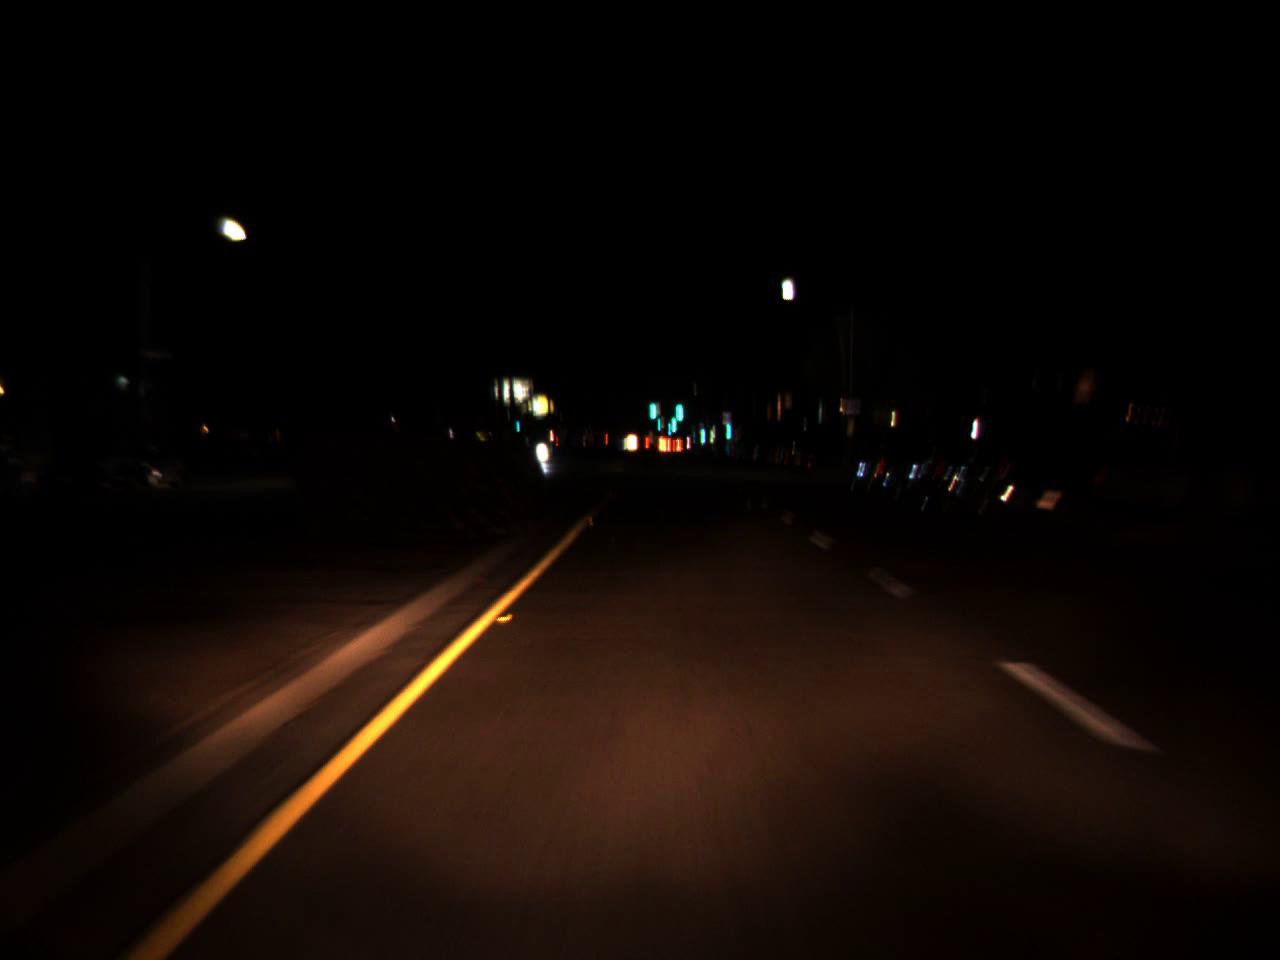go: (672, 382, 684, 427), (647, 381, 657, 426), (724, 403, 731, 445), (670, 402, 677, 438), (665, 407, 672, 440)
